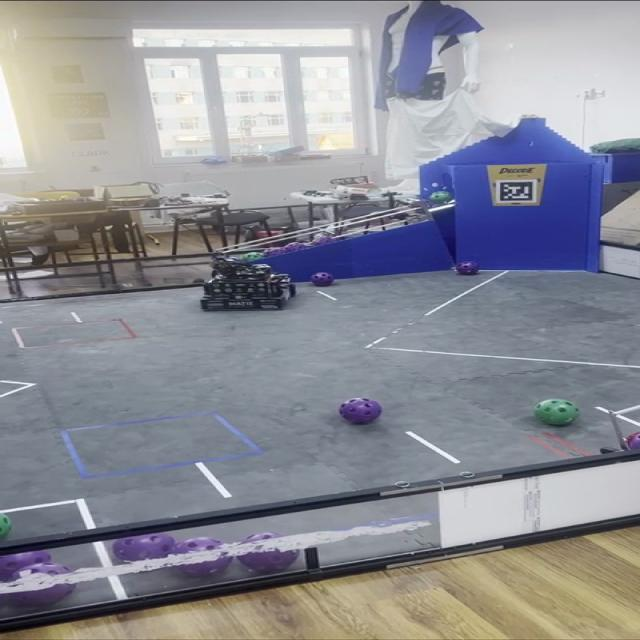artifact_green: (535, 399, 579, 426), (428, 191, 453, 204), (0, 514, 11, 539), (243, 252, 263, 261), (192, 279, 205, 284), (59, 196, 71, 201)
artifact_purple: (112, 533, 175, 562), (238, 548, 299, 573), (8, 584, 74, 607), (0, 551, 50, 581), (176, 555, 231, 577), (339, 398, 382, 424), (455, 261, 479, 275), (311, 273, 334, 287), (624, 432, 639, 450), (263, 247, 286, 257), (284, 242, 306, 252), (312, 236, 334, 245), (334, 236, 349, 241)
